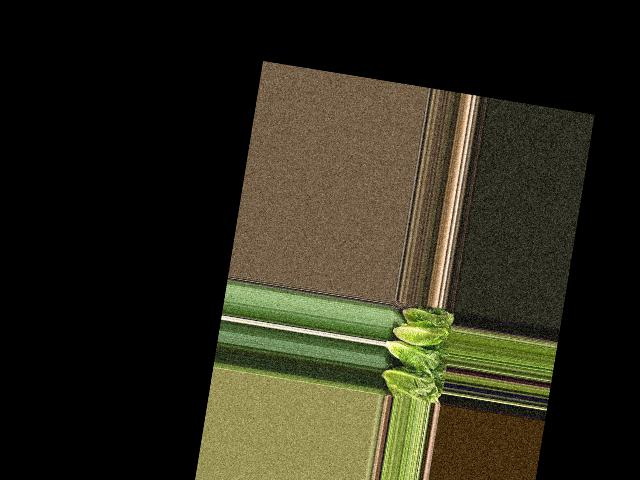lettuce: (402, 306, 454, 329)
